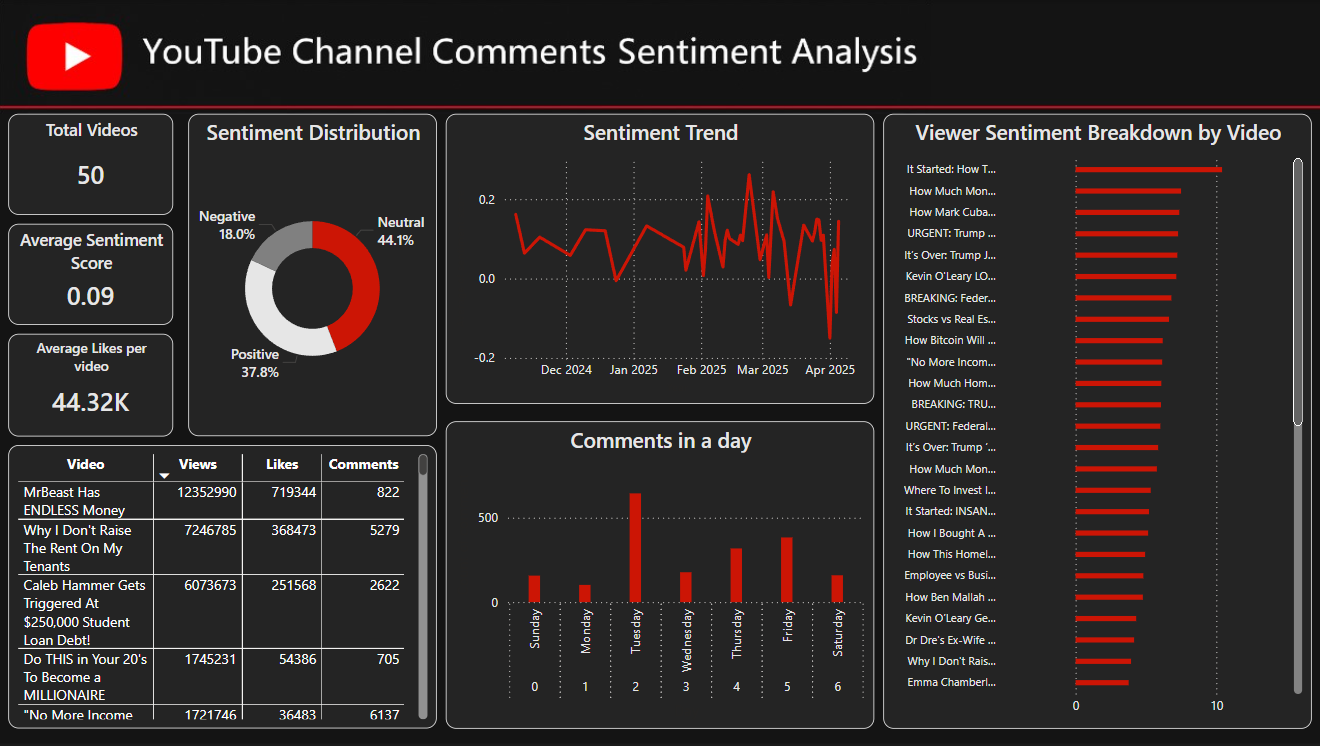

The page's visual inventory and layout, read from the dashboard file:
{"tool":"powerbi","page":{"name":"Page 1","canvas":[1280,720],"ordinal":0},"visuals":[{"type":"card","title":"Total Videos","fields":{"Values":["video_data.video_id"]},"box":[10.9,109.8,159.3,97.7],"z":0},{"type":"card","title":"Average Sentiment Score","fields":{"Values":["Youtube comments sentiment analysis - comment_sentiment.sentiment score"]},"box":[10.9,216,159.3,97.7],"z":1000},{"type":"card","title":"Average Likes per video","fields":{"Values":["video_data.likes"]},"box":[10.9,322.1,159.3,98.9],"z":2000},{"type":"tableEx","fields":{"Values":["video_data.title","video_data.views","video_data.likes","video_data.comments"]},"box":[10.9,429.5,413.8,273.9],"z":3000},{"type":"donutChart","title":"Sentiment Distribution","fields":{"Category":["Youtube comments sentiment analysis - comment_sentiment.sentiment type"],"Y":["Youtube comments sentiment analysis - comment_sentiment.comment"]},"box":[184.6,109.8,240.1,311.3],"z":4000},{"type":"lineChart","title":"Sentiment Trend","fields":{"Y":["Youtube comments sentiment analysis - comment_sentiment.sentiment score"],"Category":["video_data.Date.Variation.Date Hierarchy.Year","video_data.Date.Variation.Date Hierarchy.Quarter","video_data.Date.Variation.Date Hierarchy.Month","video_data.Date.Variation.Date Hierarchy.Day"]},"box":[433.1,109.8,413.8,279.9],"z":5000},{"type":"clusteredColumnChart","title":"Comments in a day","fields":{"Category":["video_data.Day of Week","video_data.Day"],"Y":["Youtube comments sentiment analysis - comment_sentiment.comment"]},"box":[433.1,406.6,413.8,296.8],"z":6000},{"type":"clusteredBarChart","title":"Viewer Sentiment Breakdown by Video","fields":{"Category":["video_data.title"],"Y":["Youtube comments sentiment analysis - comment_sentiment.sentiment score"]},"box":[855.4,109.8,413.8,593.6],"z":7000}]}

Visuals, with their boxes in screenshot pixels (x1, y1, x2, y2), scaled from the page's 1280x720 canvas onto the 1320x746 screenshot:
"Total Videos" card: locate(11, 114, 176, 215)
"Average Sentiment Score" card: locate(11, 224, 176, 325)
"Average Likes per video" card: locate(11, 334, 176, 436)
tableEx - video_data.title x video_data.views: locate(11, 445, 438, 729)
"Sentiment Distribution" donutChart: locate(190, 114, 438, 436)
"Sentiment Trend" lineChart: locate(447, 114, 873, 404)
"Comments in a day" clusteredColumnChart: locate(447, 421, 873, 729)
"Viewer Sentiment Breakdown by Video" clusteredBarChart: locate(882, 114, 1309, 729)
